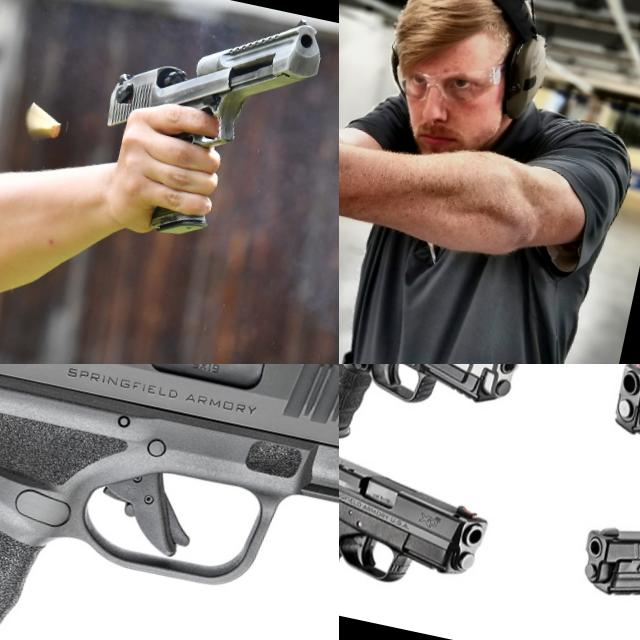handgun: (0, 364, 339, 640), (82, 0, 331, 261), (339, 429, 501, 640), (339, 364, 539, 476), (339, 11, 453, 183), (557, 486, 640, 640)
